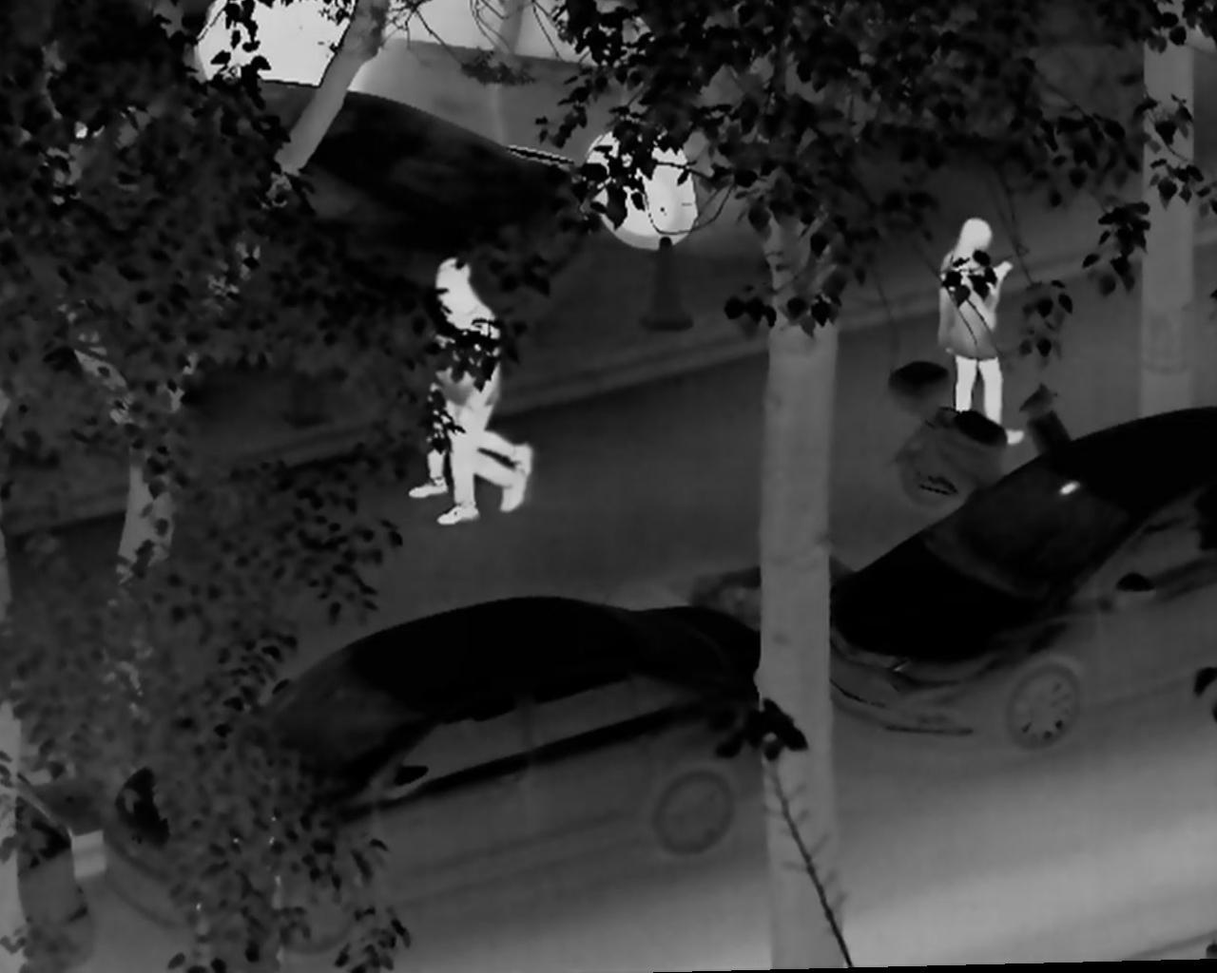person: (397, 256, 531, 505), (421, 279, 529, 526), (929, 216, 1031, 446)
